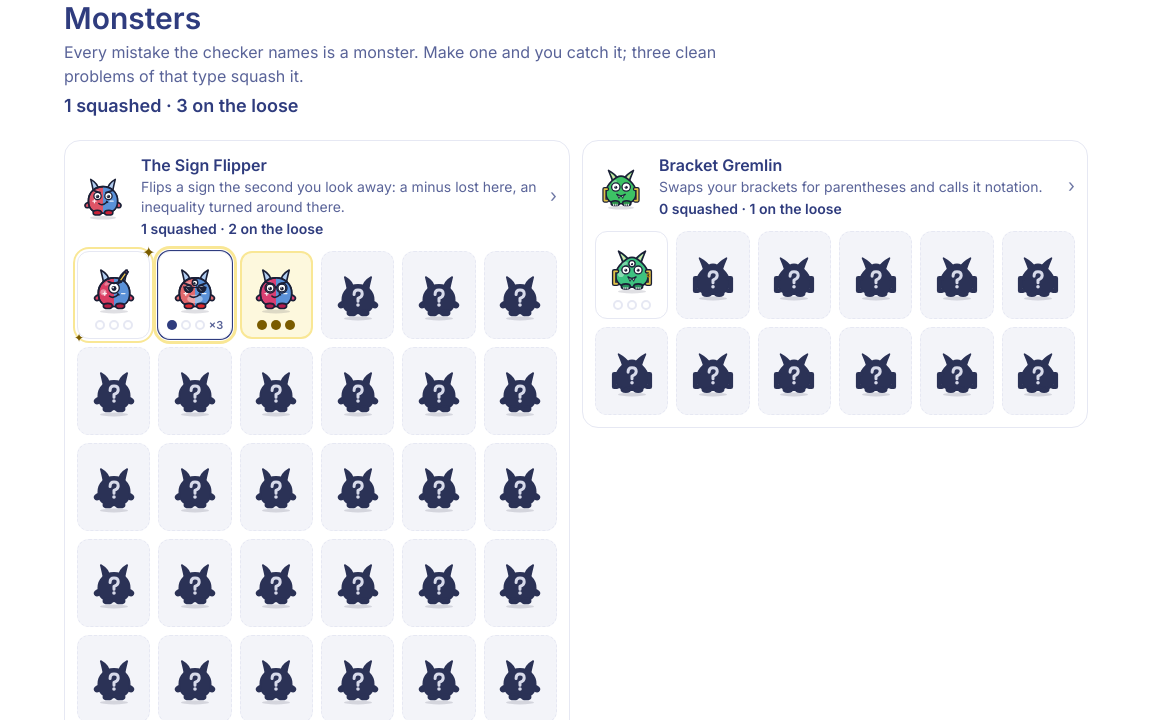
it: a monster’s card › its picture, name, lesson and example, where she last caught it, the pips, Practice this; keyboard and Escape
The width and height of the screenshot is (1152, 720).
Click the button "×3": (195, 295) [158, 251, 232, 339]
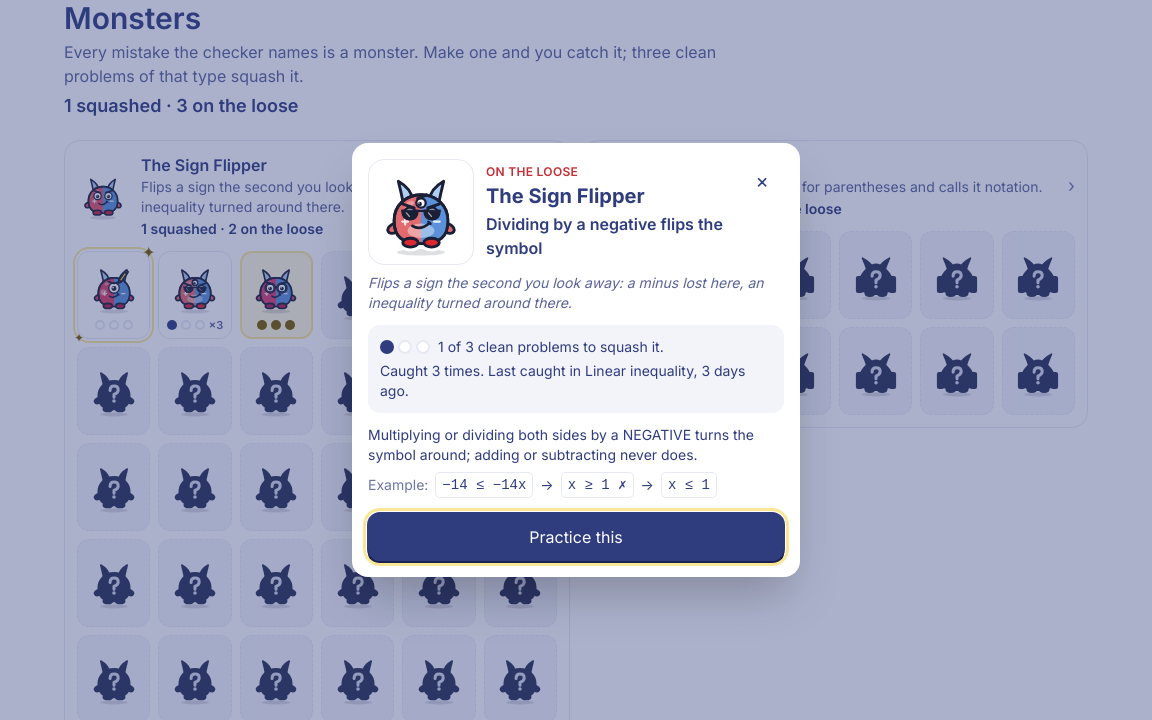
Expected: the dialog "The Sign Flipper" shows "On the loose", [486, 164, 578, 179]
Expected: the dialog "The Sign Flipper" shows "Dividing by a negative flips the symbol", [486, 214, 723, 258]
Expected: the dialog "The Sign Flipper" shows "Flips a sign the second you look away: a minus lost here, an inequality turned around there.", [368, 274, 764, 311]
Press Tab in the button "Practice this", box [368, 513, 784, 561]
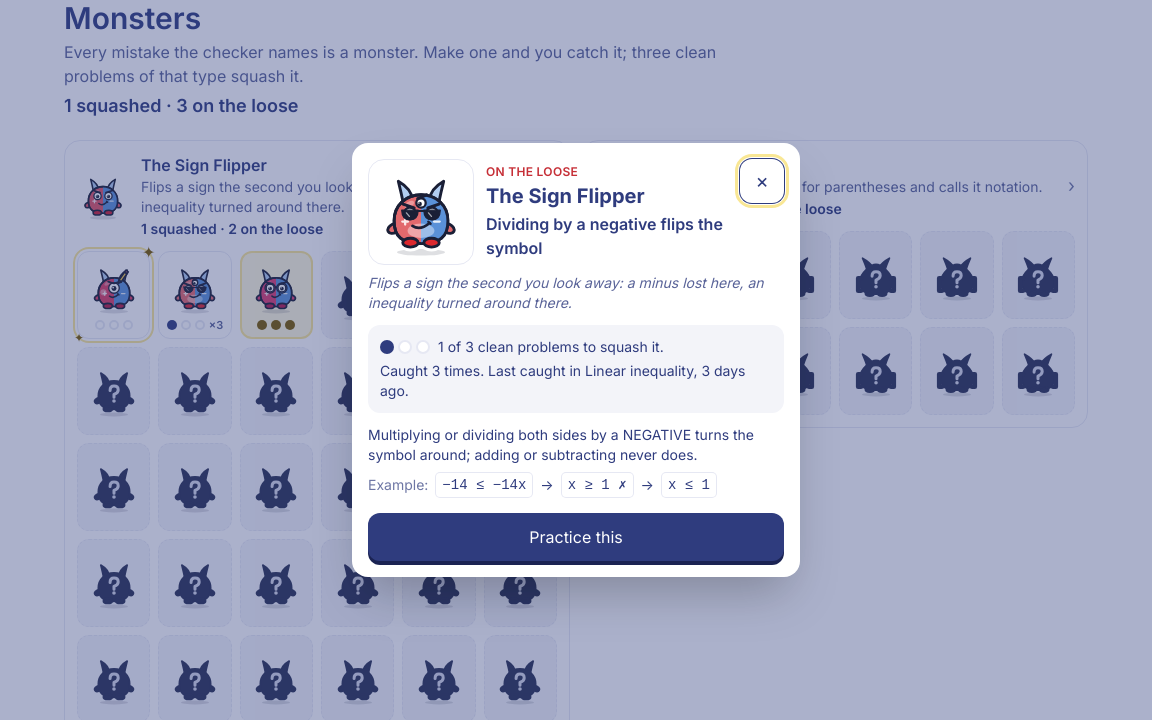
Press Tab in the button named "Close", box [740, 159, 784, 203]
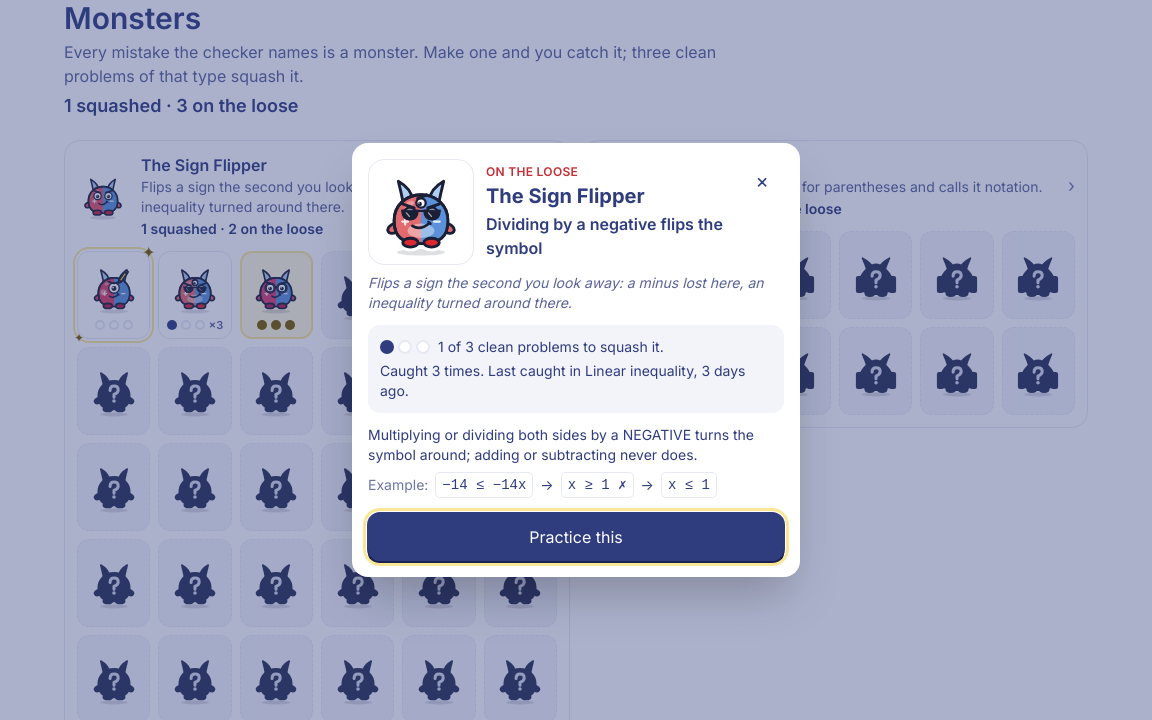
# Escape closes it and gives focus back to the tile.
Press Escape in the button "Practice this", box [368, 513, 784, 561]
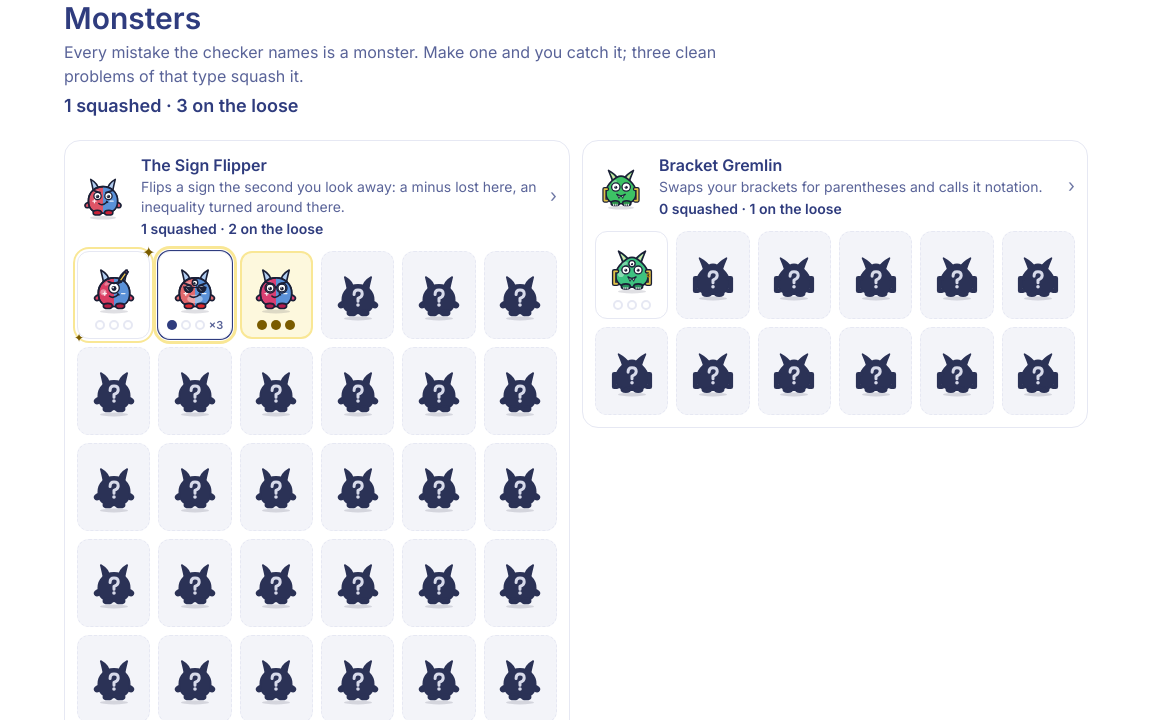
Expected: the dialog is gone
